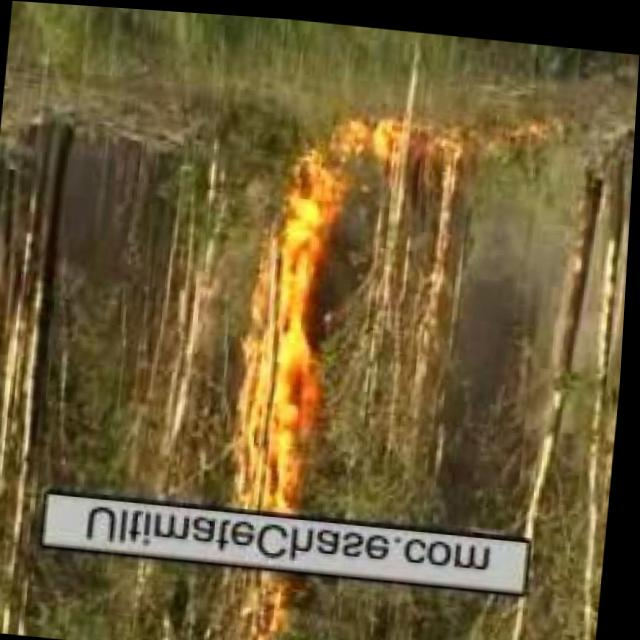Fire: (237, 218, 337, 500), (281, 98, 408, 214), (244, 562, 290, 640)
